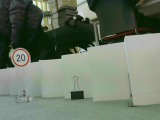speed_20: (10, 47, 30, 69)
